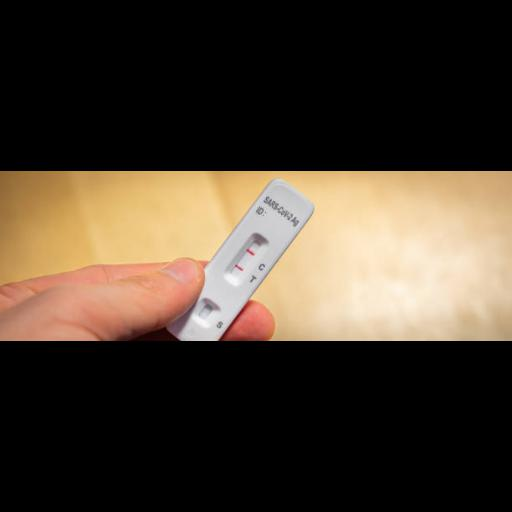Pos: (173, 177, 316, 341)
